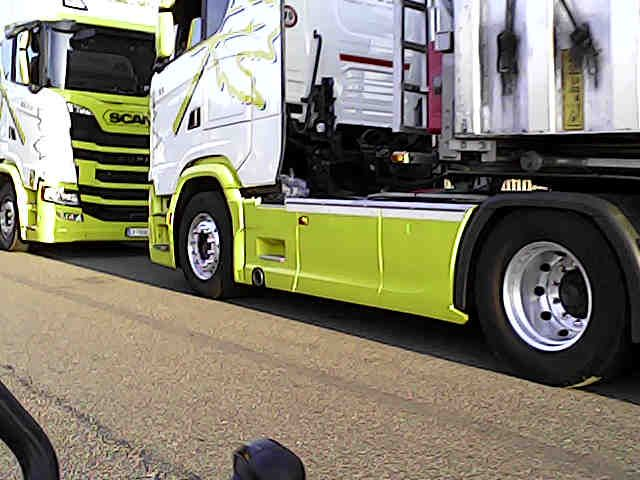whitevan: (150, 0, 639, 385), (0, 0, 156, 249)
